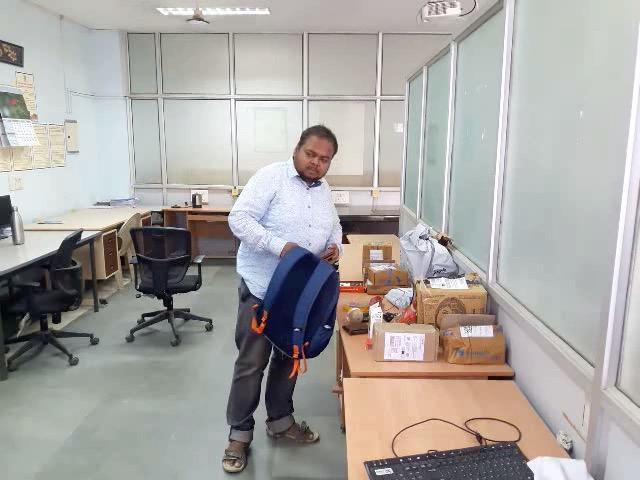shoplifting: (216, 216, 404, 362)
